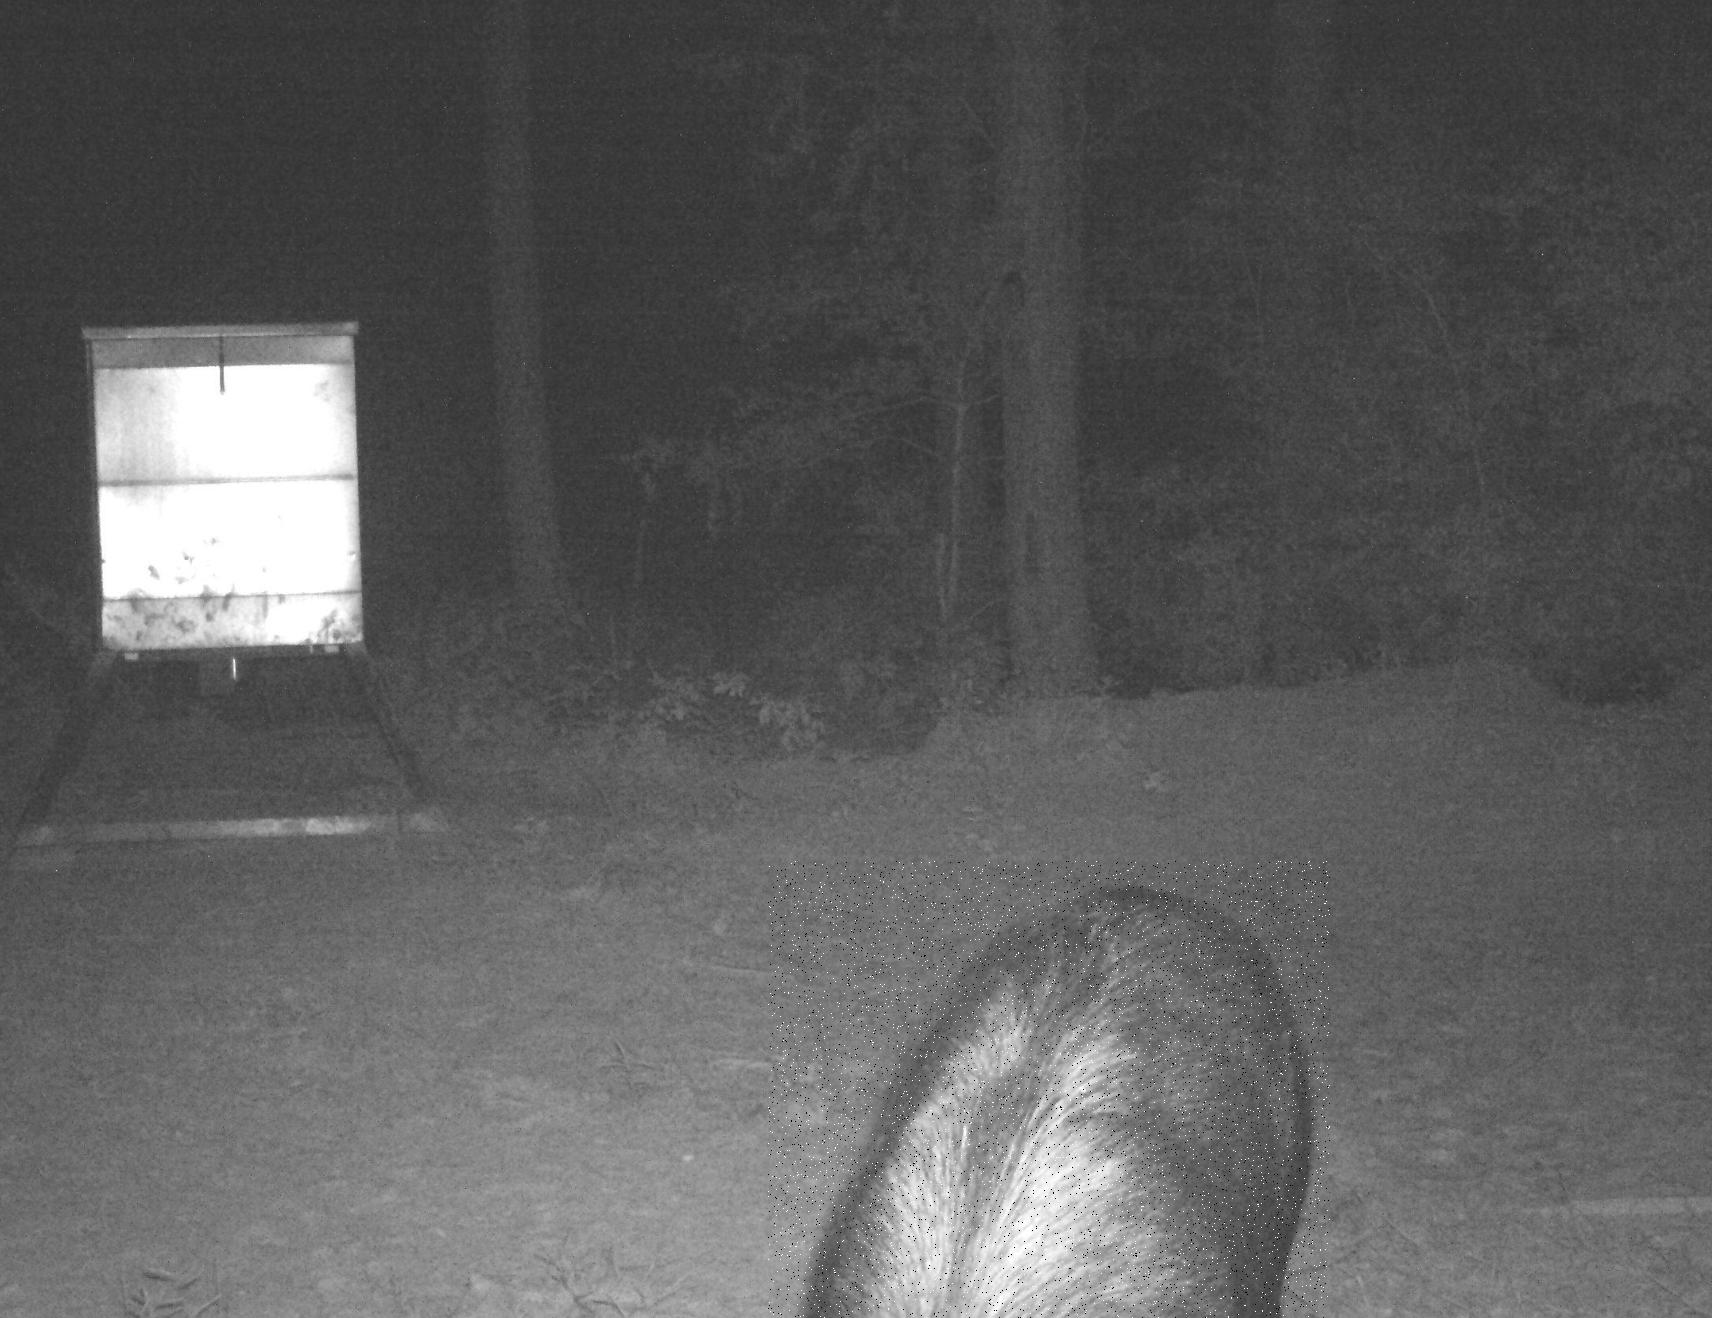Hog: (768, 861, 1330, 1318)
